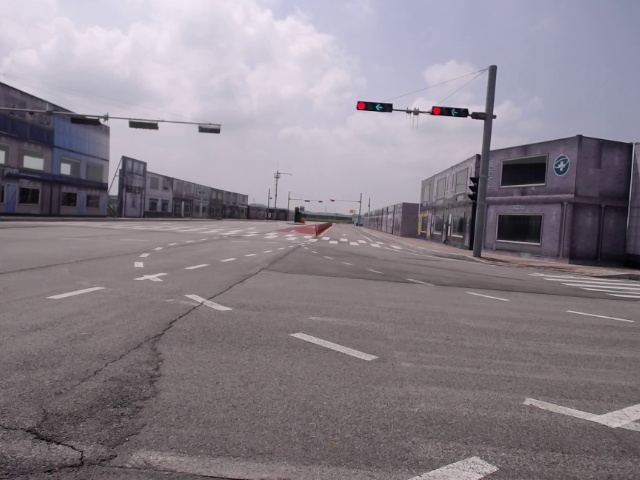left_green_4: (357, 101, 392, 112), (432, 107, 468, 117)
